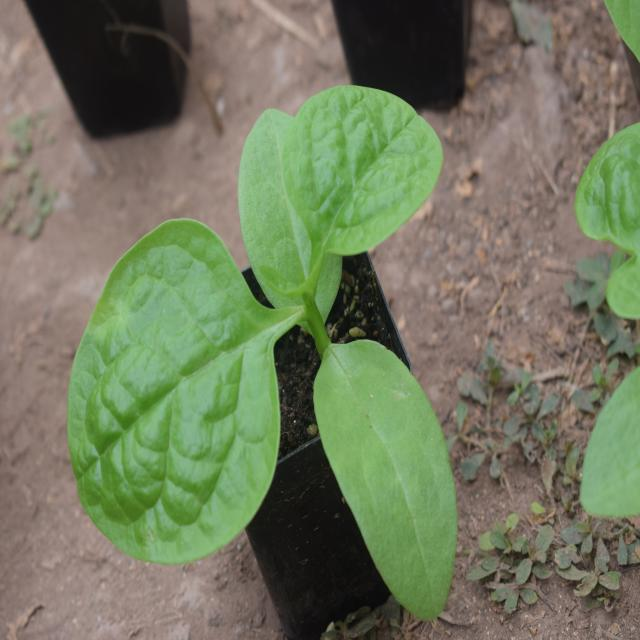Ceylon spinach: (62, 80, 467, 617)
